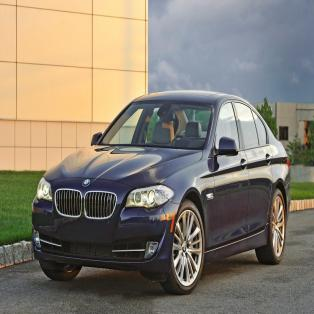Auto: (25, 87, 298, 296)
